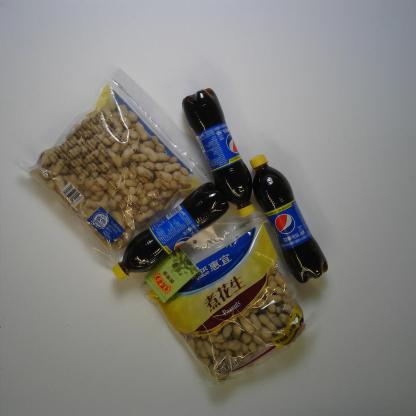Candy: (143, 246, 202, 304)
Dried Food: (19, 64, 212, 266), (140, 209, 309, 390)
Drink: (111, 181, 231, 283), (248, 153, 329, 285), (180, 87, 256, 219)
